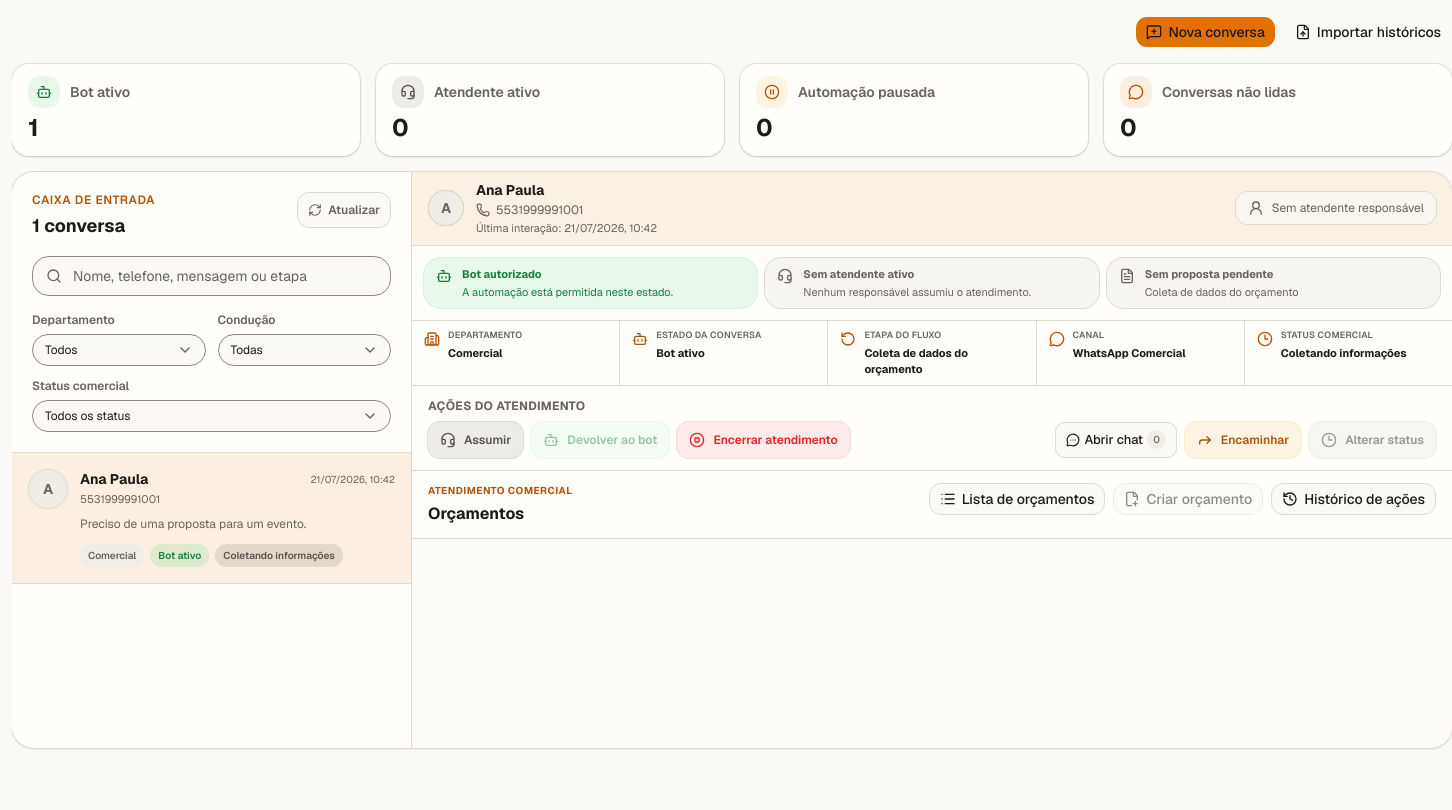
Test: ConversationWorkspace › sends expectedVersion when taking over and reloads after success
Click the button "Assumir" at (476, 440), box [428,422,523,458]
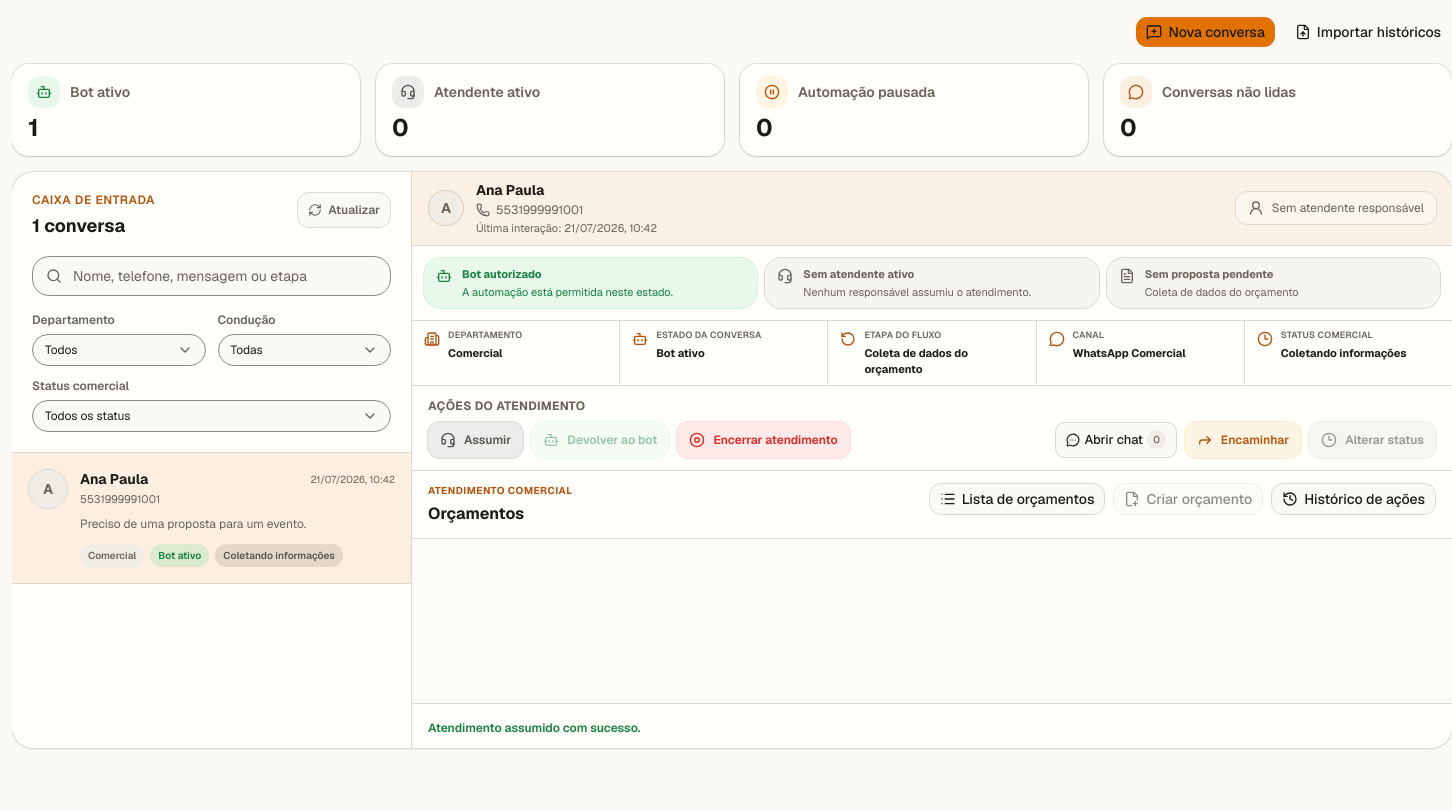
Now the text "Atendimento assumido com sucesso." is shown, box [428,720,641,736]
